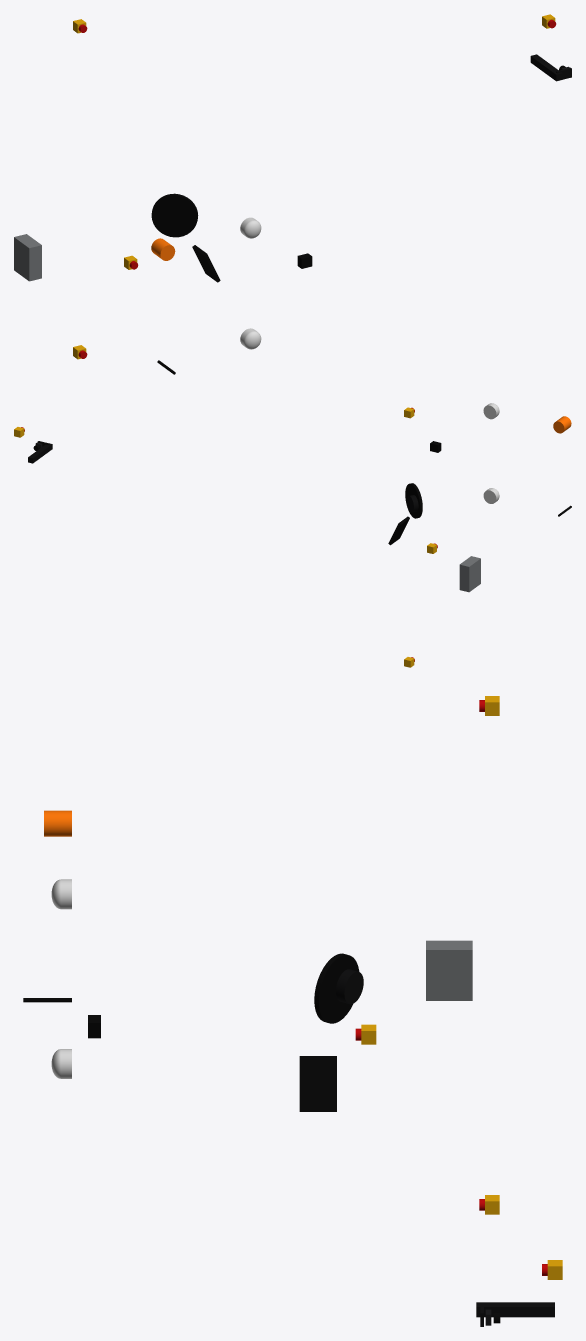
The model's file is kit.obj.
The picture shows the model from 3 angles, top to bottom: view 1: azimuth 30°, elevation 25°; view 2: azimuth 150°, elevation 25°; view 3: azimuth 270°, elevation 25°; orthographic projection. The views are drawn at different scales.
Parts seen in each view (by area): view 1: mf_8732_kit; view 2: mf_8732_kit; view 3: mf_8732_kit.
Part boxes in pixels (bbox=[...]): mf_8732_kit: bbox=[14, 14, 571, 374]; mf_8732_kit: bbox=[14, 403, 571, 667]; mf_8732_kit: bbox=[23, 696, 562, 1326].
Bounding box in the file's own units: 5.34 × 3.02 × 2.88.
